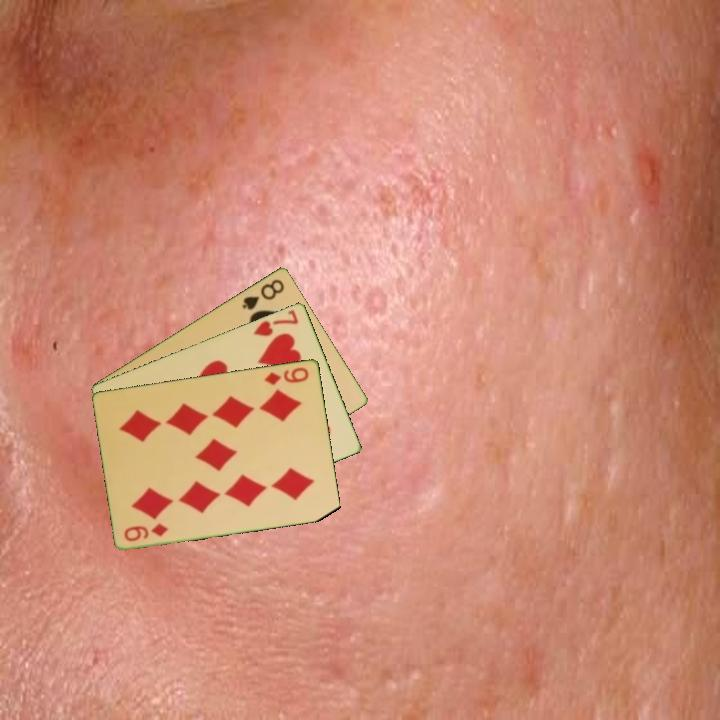7h: (250, 306, 301, 339)
8s: (238, 275, 287, 313)
9d: (260, 363, 312, 388), (121, 519, 171, 544)
